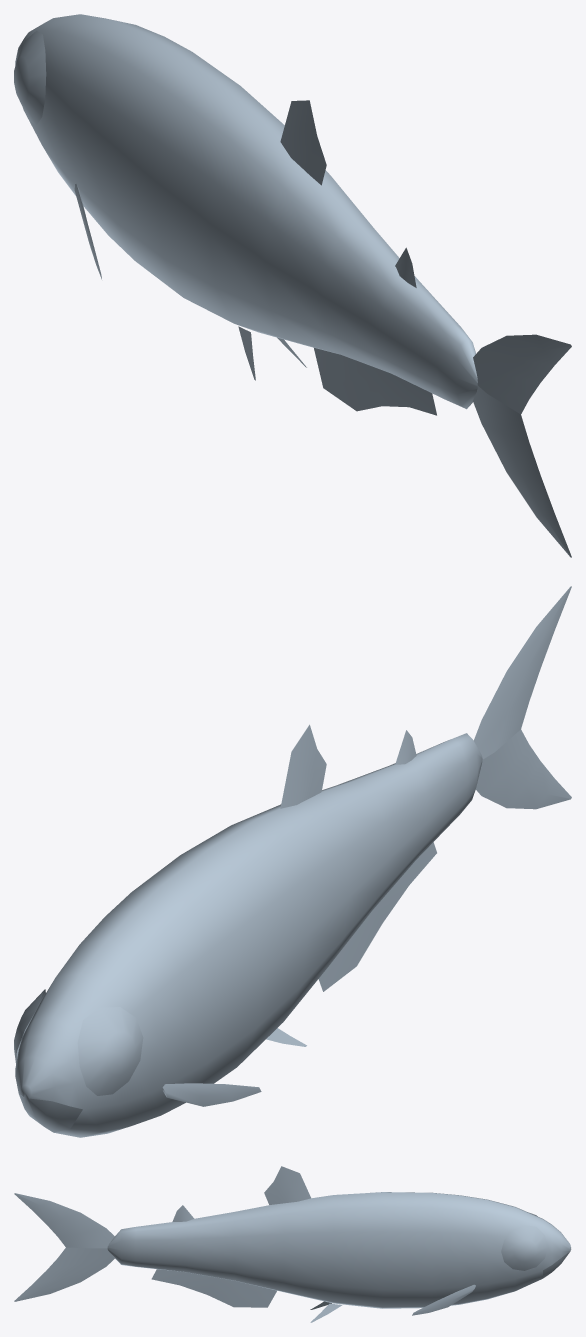
Rendered from neon_tetra_game.glb.
The picture shows the model from 3 angles, top to bottom: view 1: azimuth 30°, elevation 25°; view 2: azimuth 150°, elevation 25°; view 3: azimuth 270°, elevation 25°; orthographic projection. The views are drawn at different scales.
Parts seen in each view (by area): view 1: neon_tetra_game; view 2: neon_tetra_game; view 3: neon_tetra_game.
Boxes of the visible parts, box(x1,y1,x2,y2) form: neon_tetra_game: box(14, 14, 571, 557); neon_tetra_game: box(14, 586, 571, 1137); neon_tetra_game: box(14, 1166, 571, 1322).
Size of the model in its own units: 0.00587 by 0.0104 by 0.0349.
